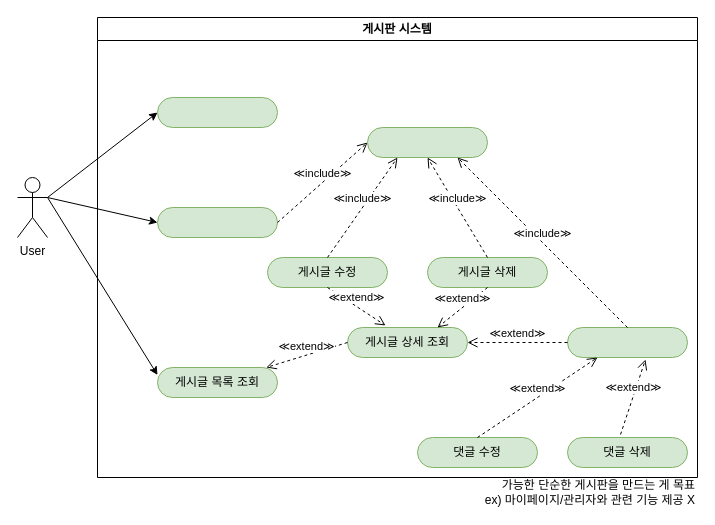
Some shapes in this 715 by 525 pixel diagram are drawn without their labels. The shapes that lost their labels are listed below. From the top down, each one's centre as x and y in pixels, then its label:
At point (217, 112): "회원가입".
At point (427, 142): "로그인".
At point (217, 222): "게시글 작성".
At point (627, 342): "댓글 작성".
